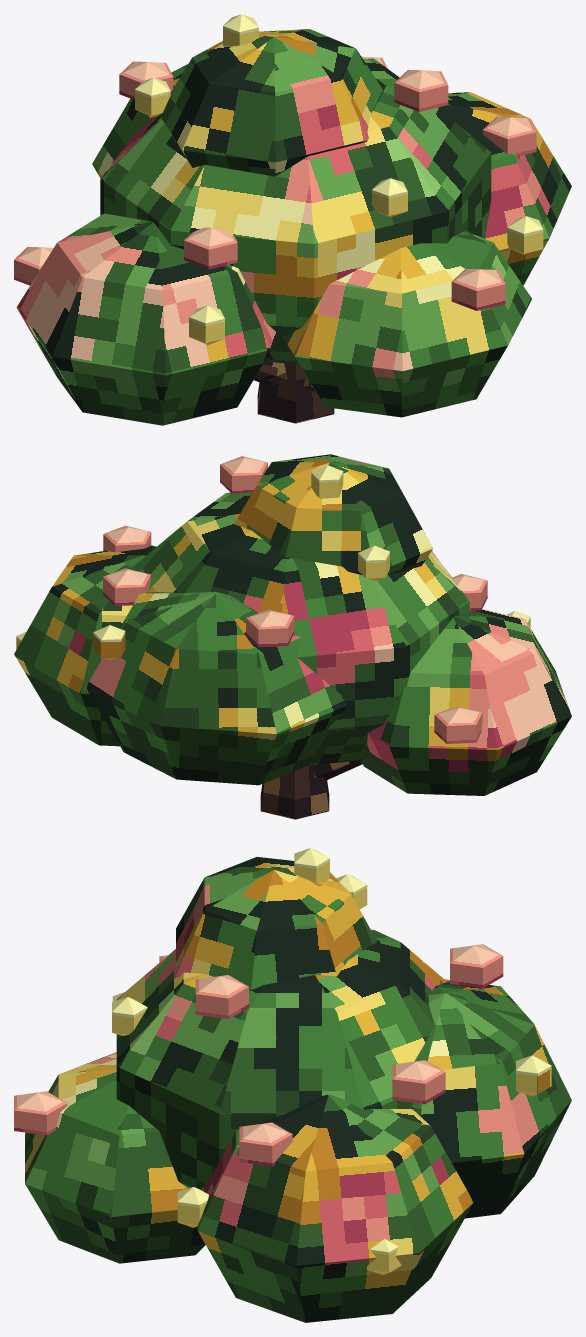
Rendered from flower-bush.glb.
3 renders of one model, top to bottom at view 1: azimuth 30°, elevation 25°; view 2: azimuth 150°, elevation 25°; view 3: azimuth 270°, elevation 25°, orthographic. The views are drawn at different scales.
Visible parts, largest first — view 1: flower-bush__clump_main, flower-bush__clump_l, flower-bush__clump_f, flower-bush__clump_t, flower-bush__clump_r, flower-bush__trunk, flower-bush__p4, flower-bush__p0, flower-bush__p1, flower-bush__clump_b, flower-bush__p2, flower-bush__p3 (+7 smaller); view 2: flower-bush__clump_b, flower-bush__clump_main, flower-bush__clump_l, flower-bush__clump_t, flower-bush__clump_r, flower-bush__trunk, flower-bush__p3, flower-bush__p5, flower-bush__p6, flower-bush__p0, flower-bush__p2, flower-bush__y6 (+4 smaller); view 3: flower-bush__clump_main, flower-bush__clump_r, flower-bush__clump_f, flower-bush__clump_b, flower-bush__clump_t, flower-bush__p0, flower-bush__p6, flower-bush__p3, flower-bush__p2, flower-bush__p4, flower-bush__y6, flower-bush__y0 (+3 smaller).
Boxes of the visible parts, x1,y1,x2,y2 form: flower-bush__clump_main: (100,57,491,364); flower-bush__clump_l: (16,213,277,425); flower-bush__clump_f: (282,230,531,417); flower-bush__clump_t: (159,29,382,176); flower-bush__clump_r: (438,92,571,285); flower-bush__trunk: (257,363,334,423); flower-bush__p4: (451,268,505,310); flower-bush__p0: (394,69,448,111); flower-bush__p1: (184,227,237,269); flower-bush__clump_b: (92,64,187,178); flower-bush__p2: (482,116,536,156); flower-bush__p3: (119,61,173,99); flower-bush__clump_b: (86,591,346,785); flower-bush__clump_main: (130,492,469,765); flower-bush__clump_l: (361,609,571,795); flower-bush__clump_t: (234,454,432,574); flower-bush__clump_r: (14,545,156,746); flower-bush__trunk: (260,764,329,819); flower-bush__p3: (246,609,294,647); flower-bush__p5: (434,706,482,743); flower-bush__p6: (103,568,150,605); flower-bush__p0: (220,456,267,493); flower-bush__p2: (103,525,151,552); flower-bush__y6: (93,625,125,660); flower-bush__clump_main: (116,928,446,1189); flower-bush__clump_r: (197,1094,473,1322); flower-bush__clump_f: (25,1052,205,1263); flower-bush__clump_b: (411,979,571,1218); flower-bush__clump_t: (176,857,377,989); flower-bush__p0: (195,975,248,1018); flower-bush__p6: (392,1060,445,1104); flower-bush__p3: (450,944,503,988); flower-bush__p2: (239,1122,292,1166); flower-bush__p4: (14,1091,67,1135); flower-bush__y6: (516,1055,551,1096); flower-bush__y0: (294,848,329,882).
Size of the model in its own units: 1.17 by 0.8 by 0.9888.
Materials: 4 (4 with a texture image).
